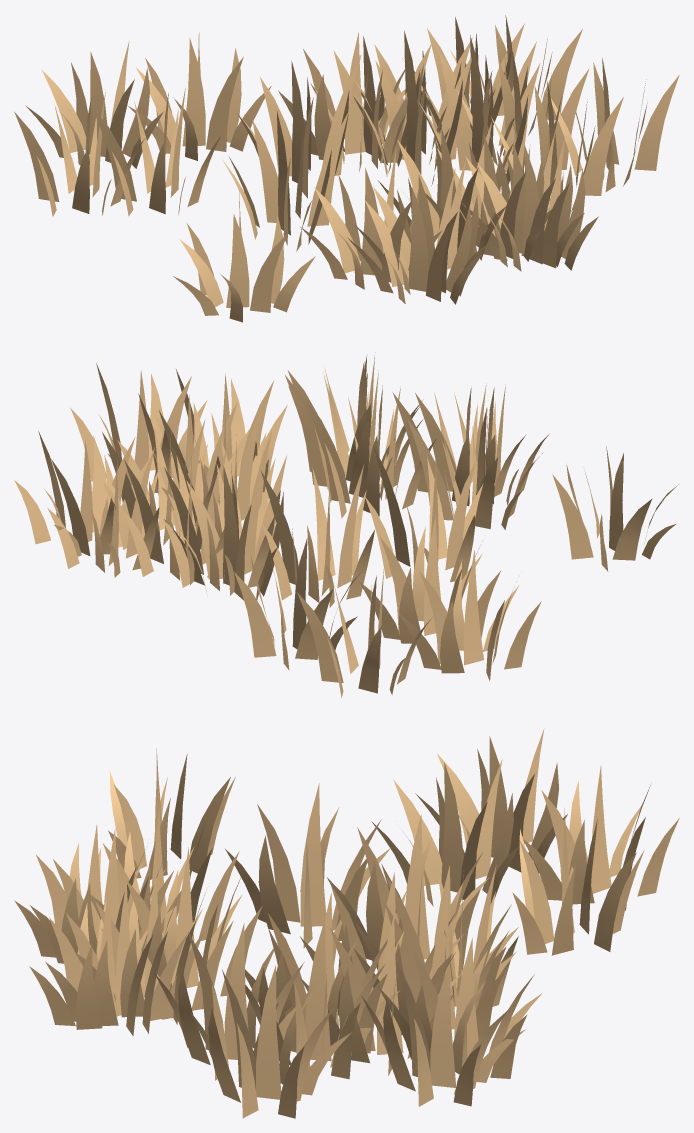
File: Grass_3.fbx
3 views of the same model, one above another, from view 1: azimuth 30°, elevation 25°; view 2: azimuth 150°, elevation 25°; view 3: azimuth 270°, elevation 25° (orthographic). The views are drawn at different scales.
Parts seen in each view (by area): view 1: Grass_3; view 2: Grass_3; view 3: Grass_3.
Boxes of the visible parts, x1,y1,x2,y2 form: Grass_3: (14, 15, 679, 322); Grass_3: (14, 352, 678, 697); Grass_3: (14, 728, 679, 1118).
Bounding box in the file's own units: 71.58 × 15.8 × 66.24.
1 material, 1 textured.
